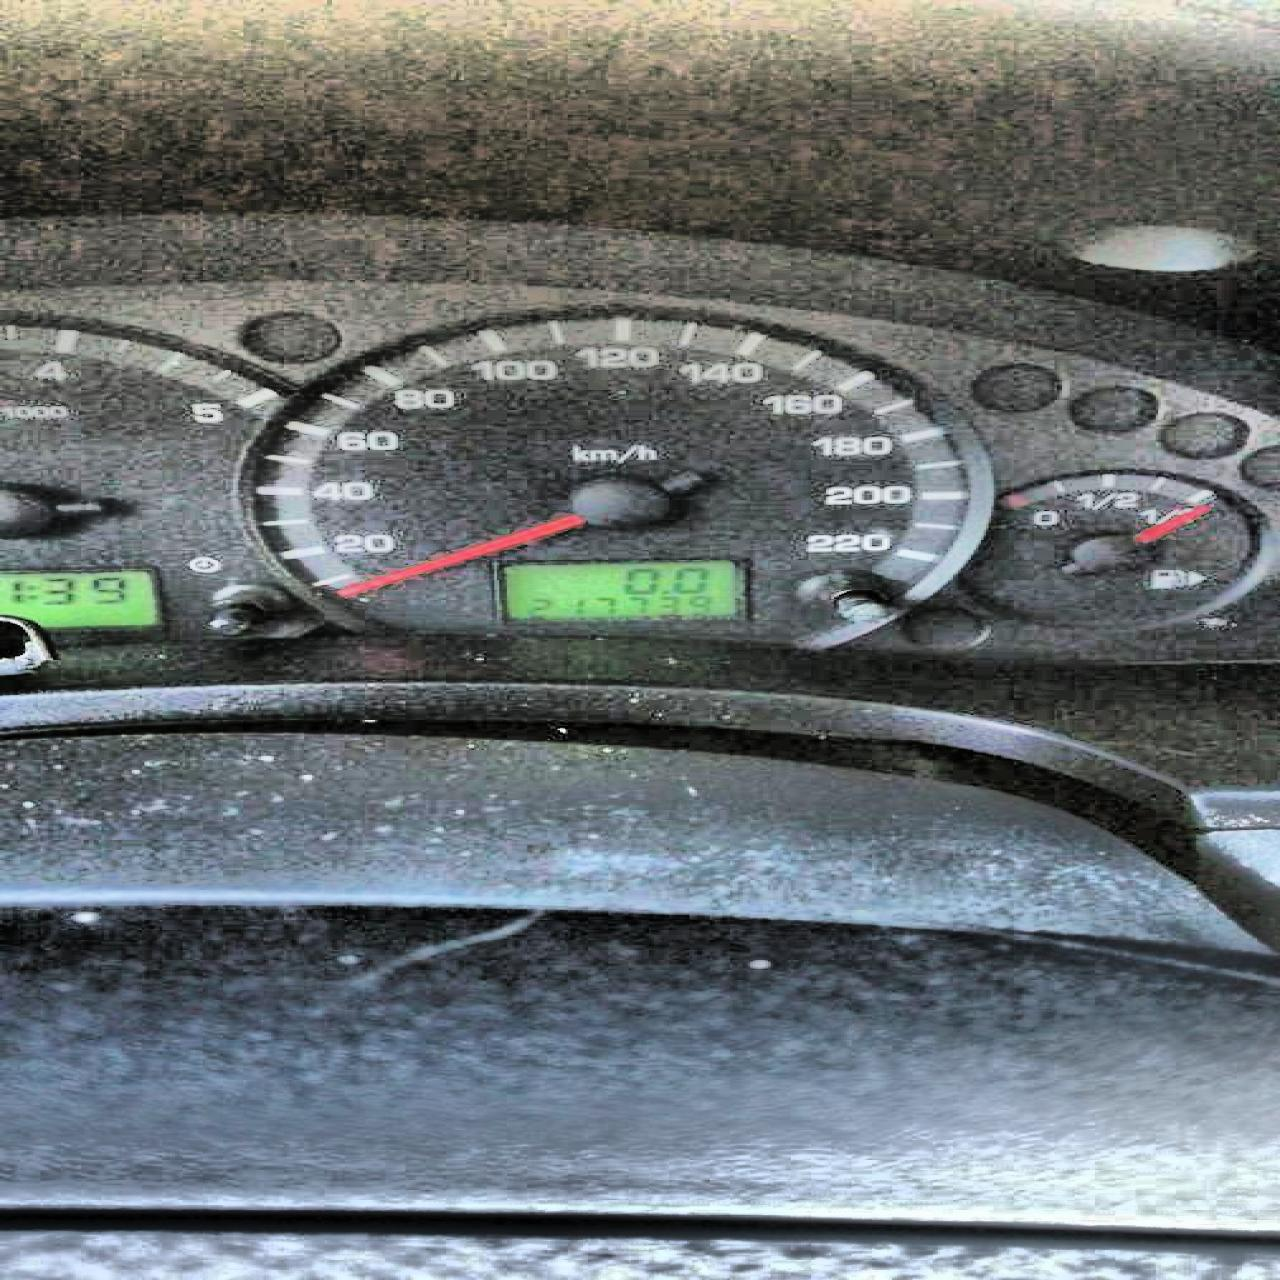-: (659, 588, 669, 593)
0: (669, 566, 707, 592), (621, 567, 656, 593)
1: (573, 599, 583, 615)
2: (525, 598, 550, 617)
3: (656, 595, 676, 614)
7: (626, 595, 646, 614), (593, 598, 613, 613)
9: (685, 595, 710, 614)
odometer: (493, 558, 740, 621)
